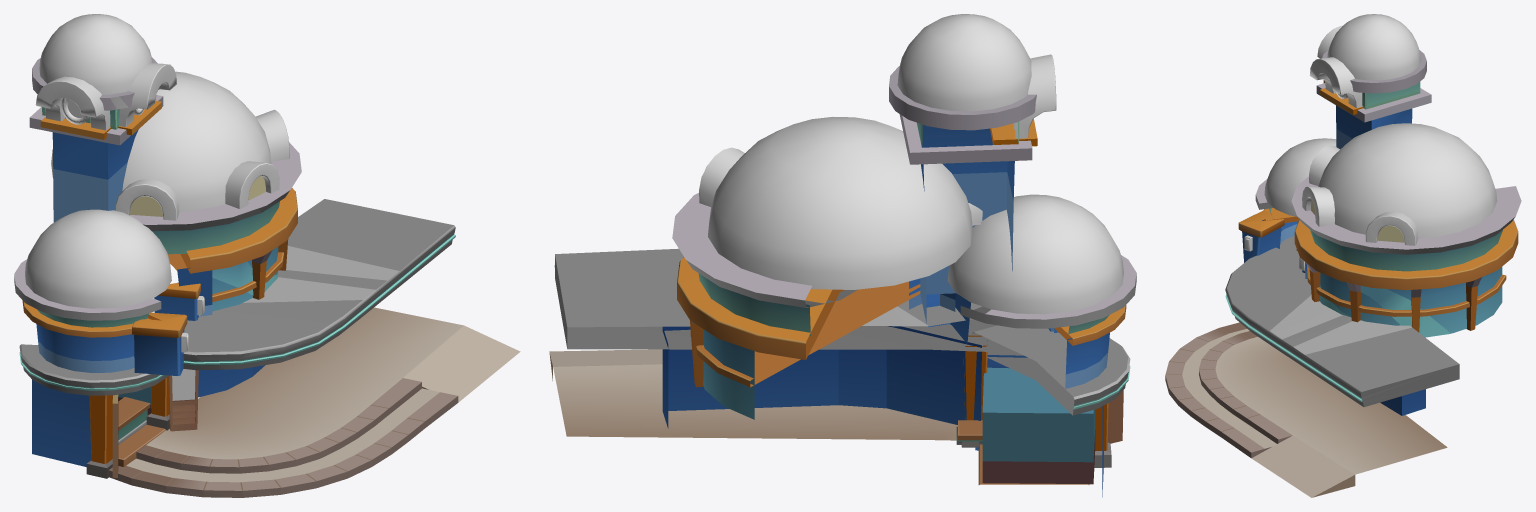
The model's file is IglooTrainStation.fbx.
3 renders of one model, left to right at view 1: azimuth 30°, elevation 25°; view 2: azimuth 150°, elevation 25°; view 3: azimuth 270°, elevation 25°, orthographic. The views are drawn at different scales.
Visible parts, largest first — view 1: IglooTrainStation; view 2: IglooTrainStation; view 3: IglooTrainStation.
Boxes of the visible parts, <box> form: IglooTrainStation: <box>14,14,520,497</box>; IglooTrainStation: <box>549,14,1136,497</box>; IglooTrainStation: <box>1165,14,1521,497</box>.
Bounding box in the file's own units: 1525 × 1193 × 1181.
